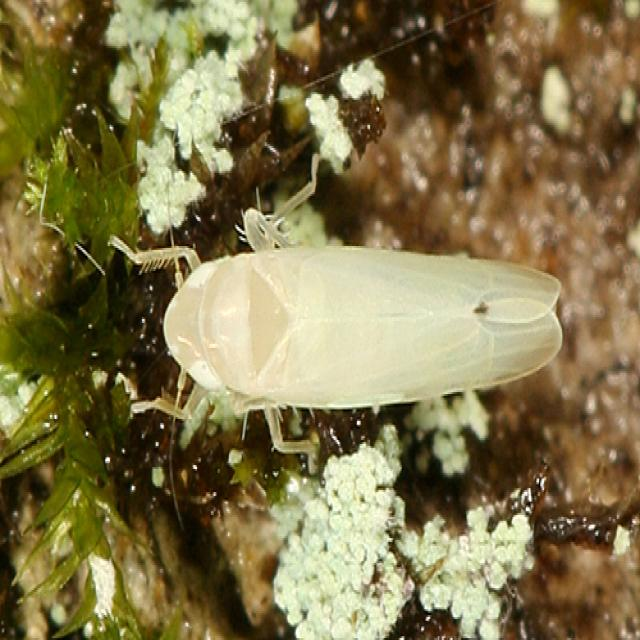Yechan: (125, 202, 576, 428)
